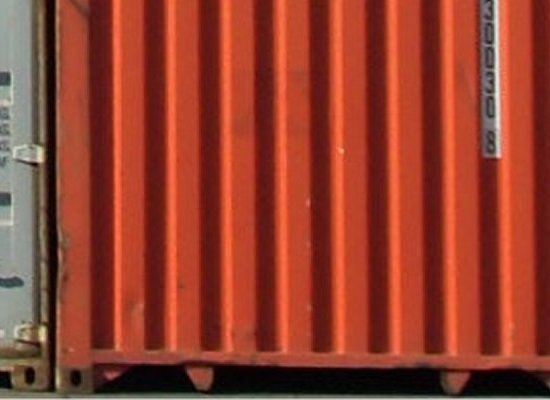container_no_door: (55, 3, 544, 393)
